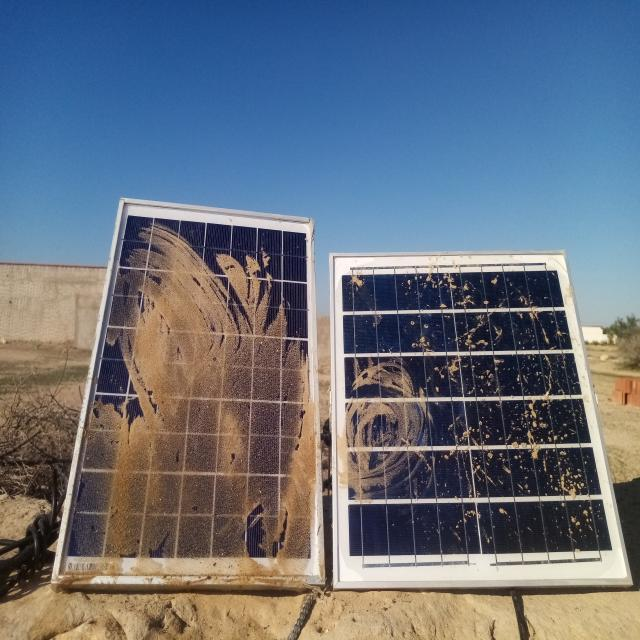faulty: (55, 193, 323, 585), (334, 254, 634, 589)
